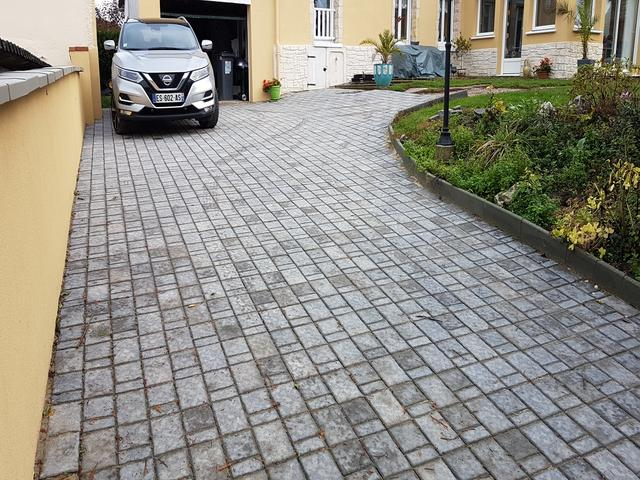Quashquai: (147, 90, 188, 104)
